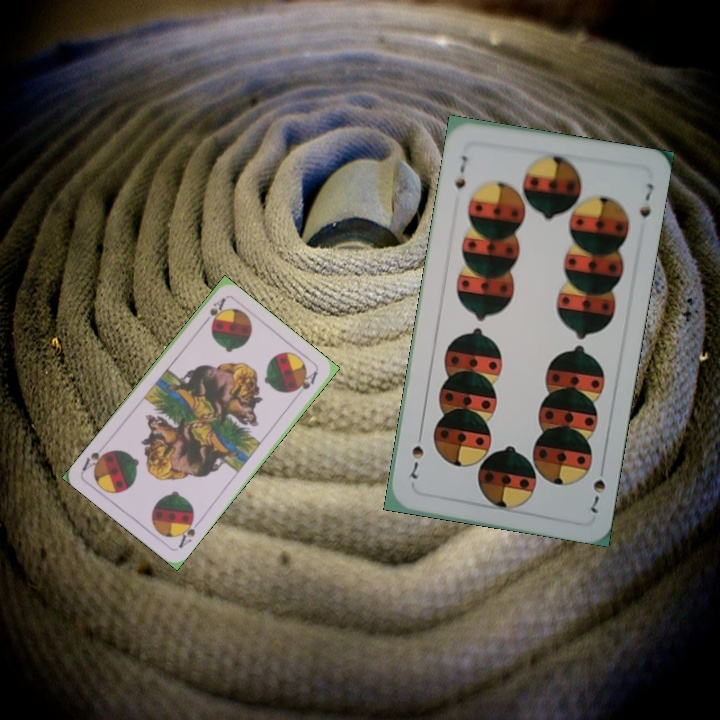S7: (587, 459, 608, 516), (451, 151, 470, 192)
SA: (174, 513, 203, 551), (198, 294, 229, 329)
